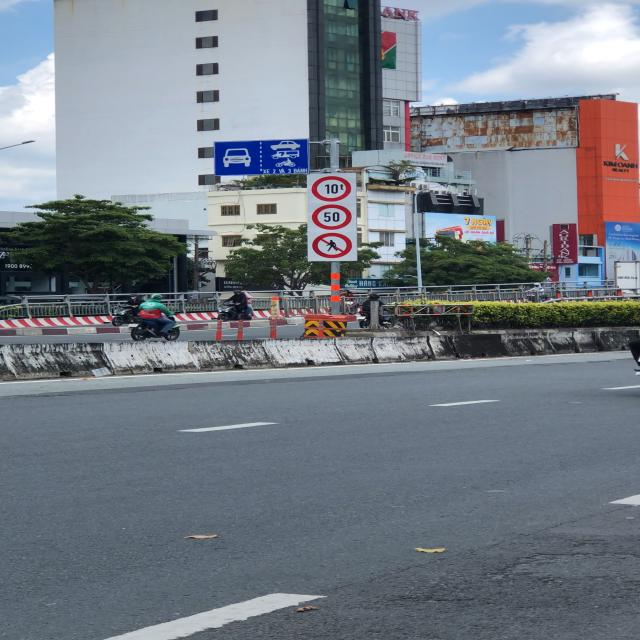Bien bao cam nguoi di bo: (310, 232, 358, 259)
Bien bao toc do toi da cho phep: (308, 202, 354, 229)
